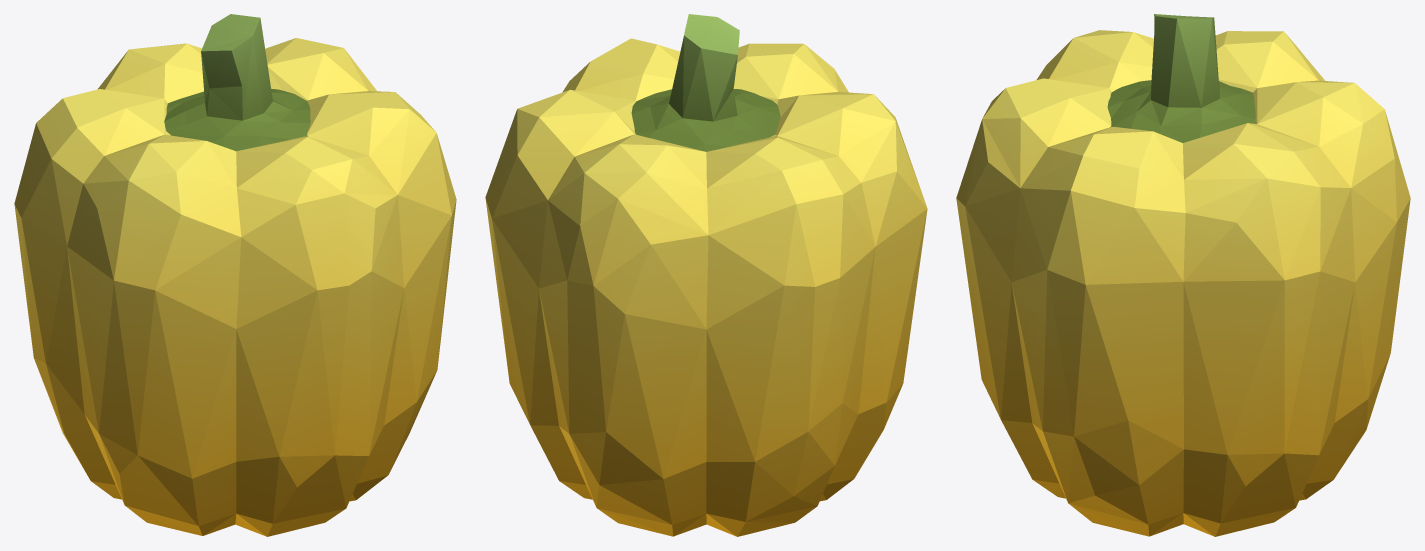
The model's file is SM_Food_Pepper_Yellow.fbx.
3 renders of one model, left to right at view 1: azimuth 30°, elevation 25°; view 2: azimuth 150°, elevation 25°; view 3: azimuth 270°, elevation 25°, orthographic. The views are drawn at different scales.
Parts seen in each view (by area): view 1: SM_Food_Pepper_Yellow; view 2: SM_Food_Pepper_Yellow; view 3: SM_Food_Pepper_Yellow.
Boxes of the visible parts, bbox=[...] form: SM_Food_Pepper_Yellow: bbox=[14, 14, 456, 536]; SM_Food_Pepper_Yellow: bbox=[485, 14, 927, 536]; SM_Food_Pepper_Yellow: bbox=[956, 14, 1410, 536].
Size of the model in its own units: 13.96 by 18.37 by 15.47.
